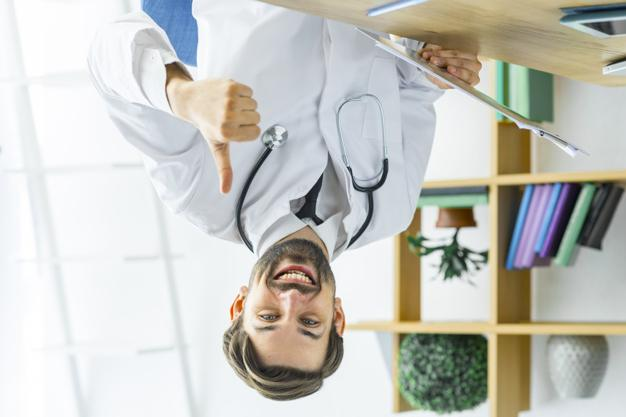thumbsdown: (212, 81, 260, 194)
